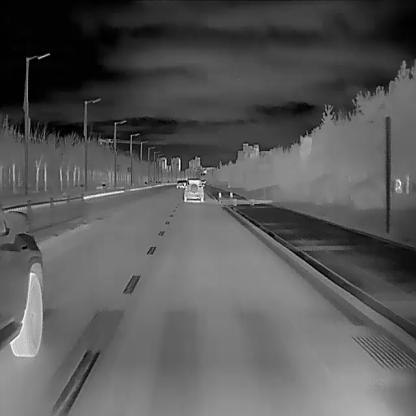car: (0, 206, 44, 359), (183, 177, 204, 202), (176, 178, 183, 188), (182, 179, 187, 187)
